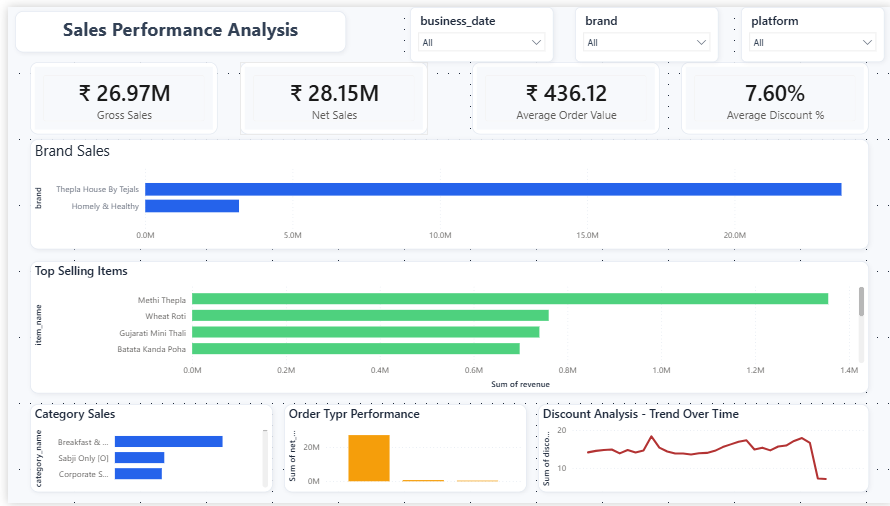

Layout of this report page (visuals, bound fields, positions):
{"tool":"powerbi","page":{"name":"Sales Performance Analysis","canvas":[1280,720],"ordinal":1},"visuals":[{"type":"cardVisual","fields":{"Data":["Table.Gross Sales"]},"box":[32,80,272,105],"z":0},{"type":"cardVisual","fields":{"Data":["Measure.Average Discount %"]},"box":[976,80,272,105],"z":1000},{"type":"cardVisual","fields":{"Data":["Table.Net Sales"]},"box":[336,80,272,105],"z":2000},{"type":"cardVisual","fields":{"Data":["Table.Average Order Value"]},"box":[672,80,272,105],"z":3000},{"type":"clusteredBarChart","title":"Brand Sales","fields":{"Y":["Sum(vw_brand_sales.net_sales)"],"Category":["vw_brand_sales.brand"]},"box":[32,192,1216,160],"z":4000},{"type":"clusteredBarChart","title":"Category Sales ","fields":{"Category":["vw_category_sales.category_name"],"Y":["Sum(vw_category_sales.revenue)"]},"box":[32,576,352,128],"z":5000},{"type":"clusteredColumnChart","title":"Order Typr Performance","fields":{"Category":["vw_order_type_performance (2).order_type"],"Y":["Sum(vw_order_type_performance (2).net_sales)"]},"box":[400,576,352,128],"z":6000},{"type":"lineChart","title":"Discount Analysis - Trend Over Time","fields":{"Category":["vw_discount_analysis.business_date.Variation.Date Hierarchy.Day"],"Y":["Sum(vw_discount_analysis.discount_percentage)"]},"box":[768,576,480,128],"z":7000},{"type":"slicer","fields":{"Values":["dim_date.business_date"]},"box":[582,0,208,80],"z":8000},{"type":"slicer","fields":{"Values":["dim_brand.brand"]},"box":[822,0,208,80],"z":9000},{"type":"slicer","fields":{"Values":["dim_platform.platform"]},"box":[1062,0,208,80],"z":10000},{"type":"clusteredBarChart","title":"Top Selling Items","fields":{"Category":["vw_item_sales.item_name"],"Y":["Sum(vw_item_sales.revenue)"]},"box":[32,368,1216,192],"z":11000},{"type":"textbox","box":[10,6,480,60],"z":11002}]}

Visuals, with their boxes in screenshot pixels (x1, y1, x2, y2), scaled from the page's 1280x720 canvas onto the 890x506 screenshot:
cardVisual - Table.Gross Sales: {"left": 22, "top": 56, "right": 211, "bottom": 130}
cardVisual - Measure.Average Discount %: {"left": 679, "top": 56, "right": 868, "bottom": 130}
cardVisual - Table.Net Sales: {"left": 234, "top": 56, "right": 423, "bottom": 130}
cardVisual - Table.Average Order Value: {"left": 467, "top": 56, "right": 656, "bottom": 130}
"Brand Sales" clusteredBarChart: {"left": 22, "top": 135, "right": 868, "bottom": 247}
"Category Sales " clusteredBarChart: {"left": 22, "top": 405, "right": 267, "bottom": 495}
"Order Typr Performance" clusteredColumnChart: {"left": 278, "top": 405, "right": 523, "bottom": 495}
"Discount Analysis - Trend Over Time" lineChart: {"left": 534, "top": 405, "right": 868, "bottom": 495}
slicer - dim_date.business_date: {"left": 405, "top": 0, "right": 549, "bottom": 56}
slicer - dim_brand.brand: {"left": 572, "top": 0, "right": 716, "bottom": 56}
slicer - dim_platform.platform: {"left": 738, "top": 0, "right": 883, "bottom": 56}
"Top Selling Items" clusteredBarChart: {"left": 22, "top": 259, "right": 868, "bottom": 394}
textbox: {"left": 7, "top": 4, "right": 341, "bottom": 46}
